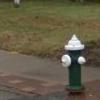Hydrant: (52, 28, 93, 97)
